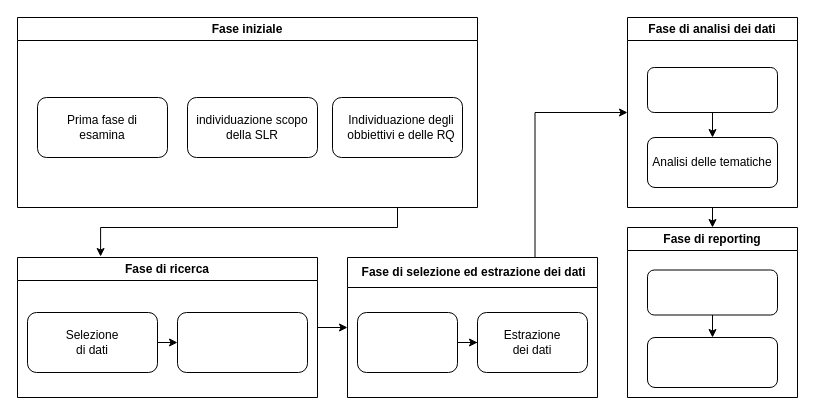
Image size: 815x415. Some labels were removed from this diagram. Each missing label, with the centre of its shape:
Definizione delle stringhe di ricerca: [242,342]
report dei risultati: [712,292]
Richiesta di feedback: [712,362]
Selezione degli articoli: [407,342]
Sintesi: [712,89]
